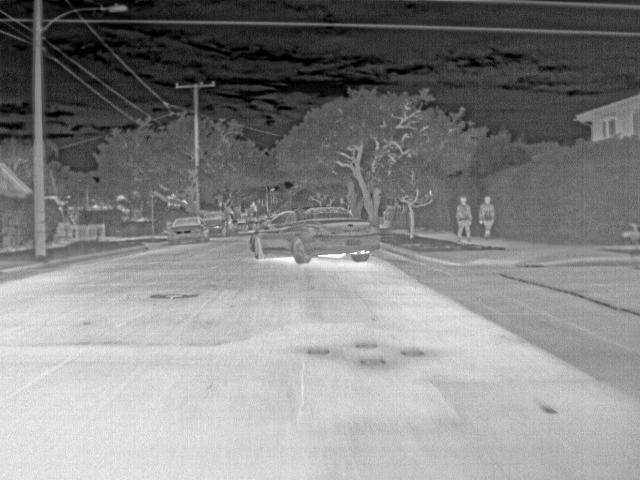car: (248, 204, 382, 264), (168, 214, 205, 244), (205, 211, 234, 236), (235, 218, 251, 234), (250, 214, 265, 225)
person: (453, 192, 473, 242), (478, 193, 494, 241)
